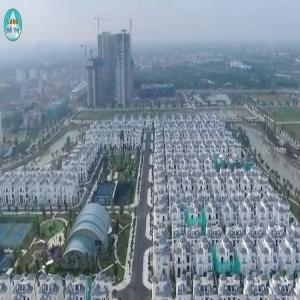drone: (31, 235, 73, 277)
